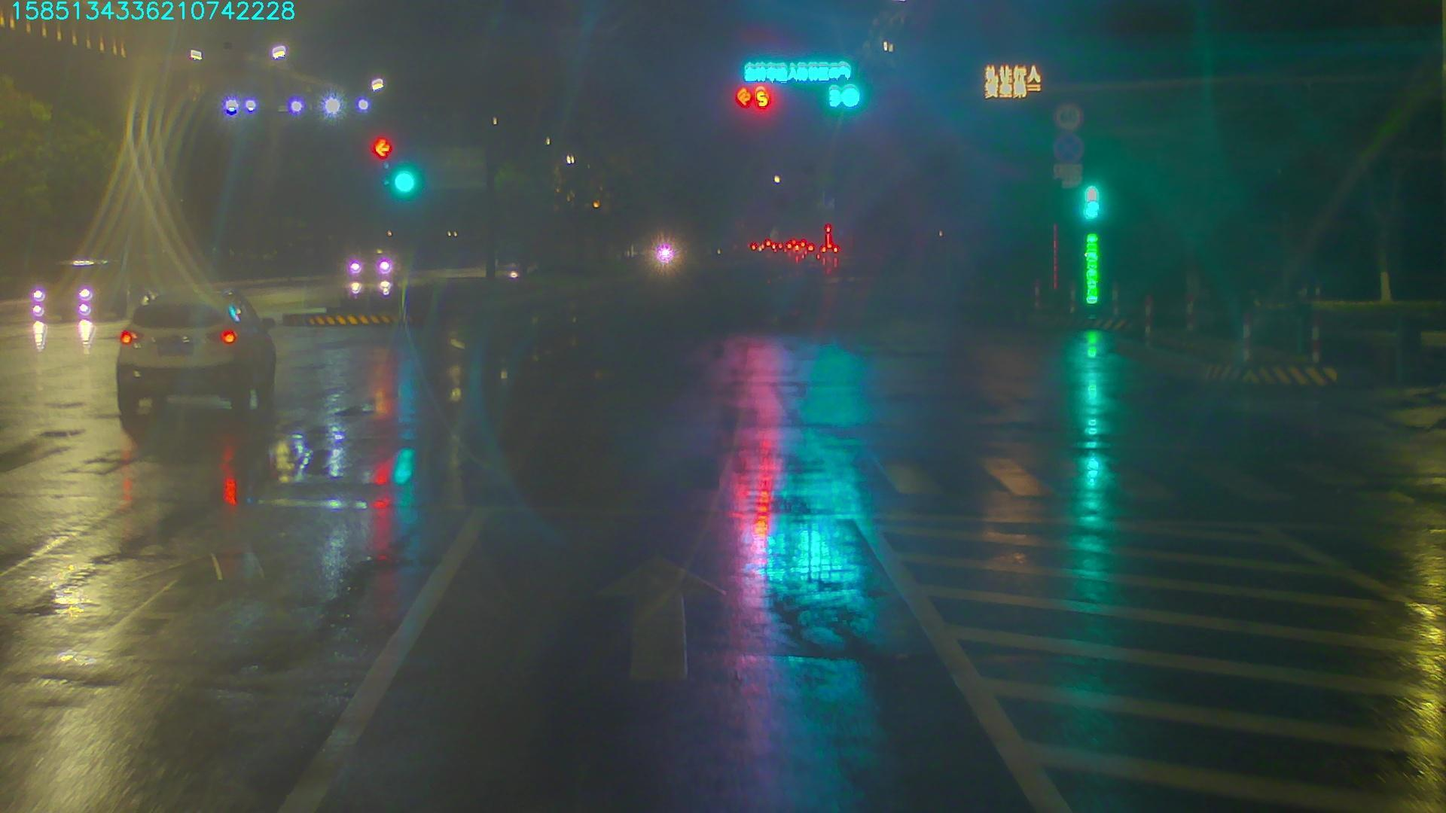green: (825, 87, 858, 107)
red: (734, 89, 767, 109)
wait_on: (740, 60, 856, 81)
